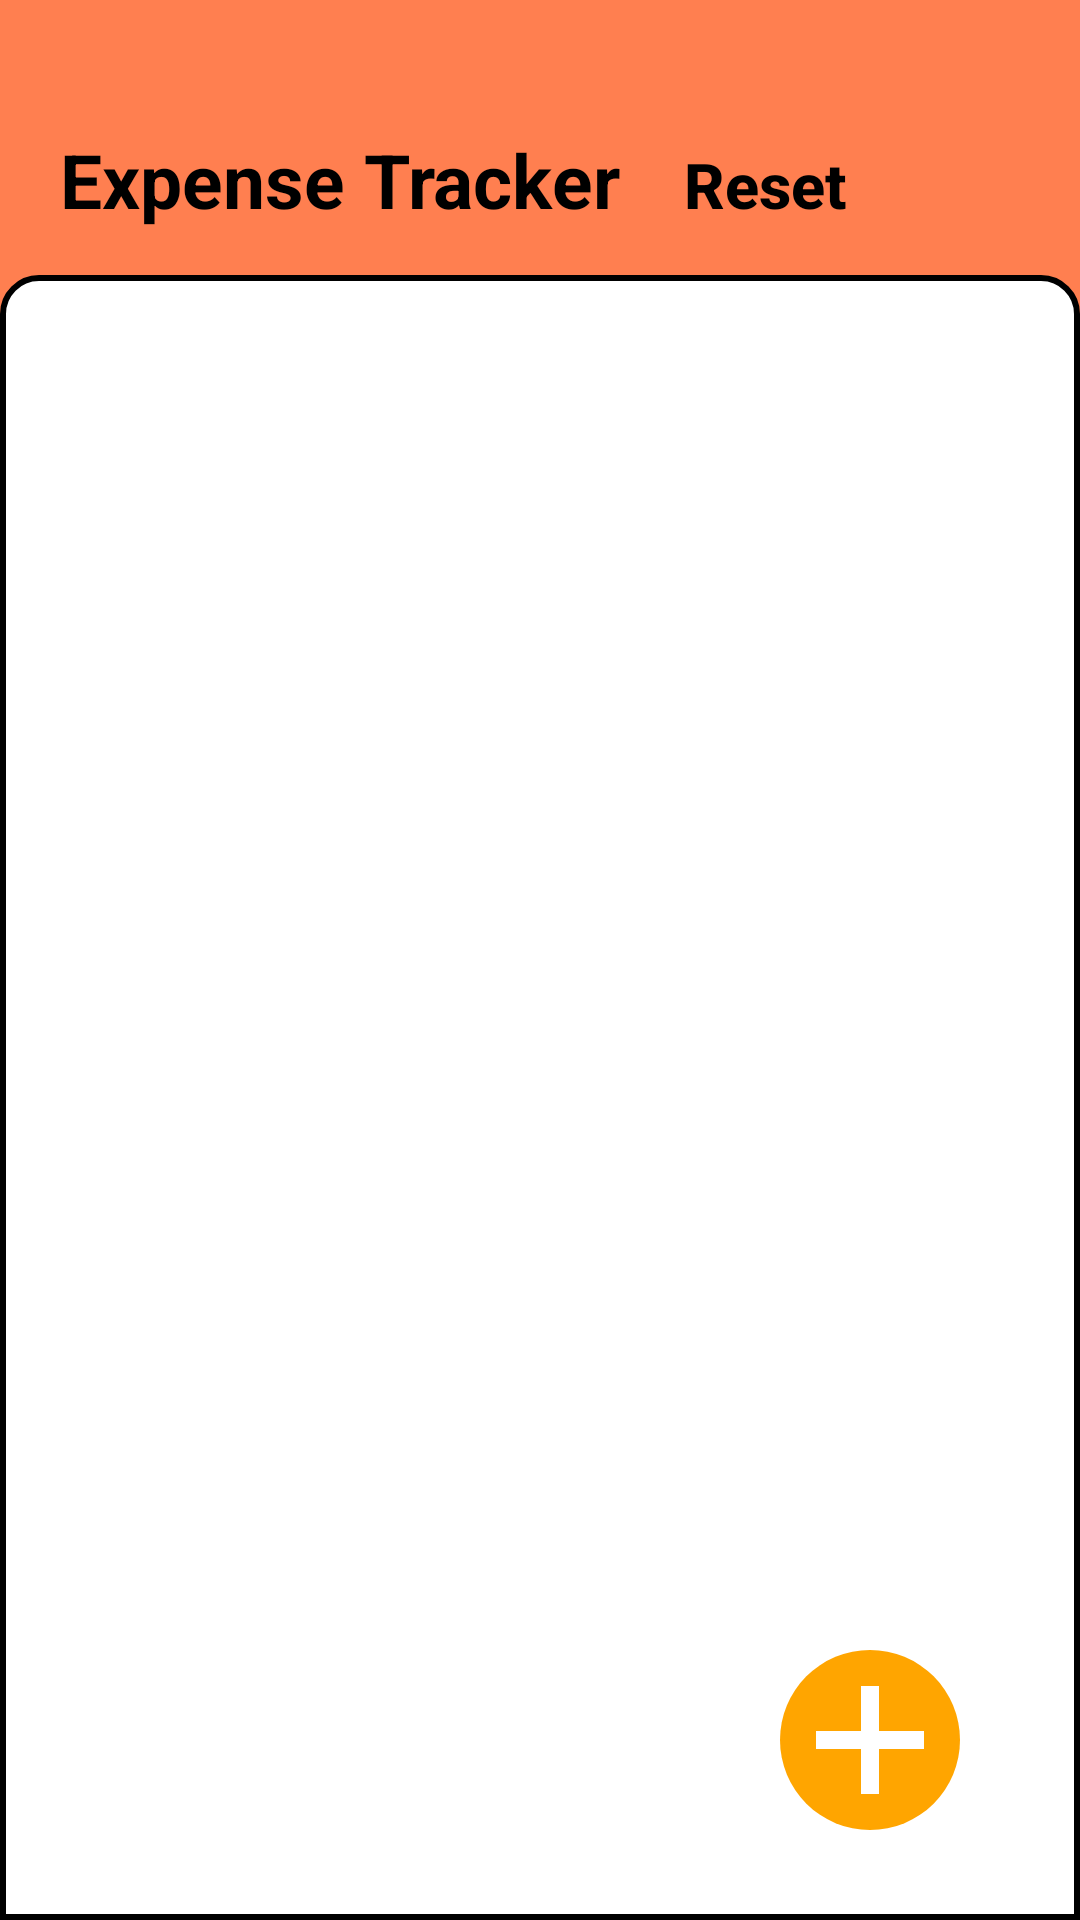

Where to tap for icons on this 1080w x 1920h app screen, as (x=x, y=y):
add: (x=870, y=1740)
